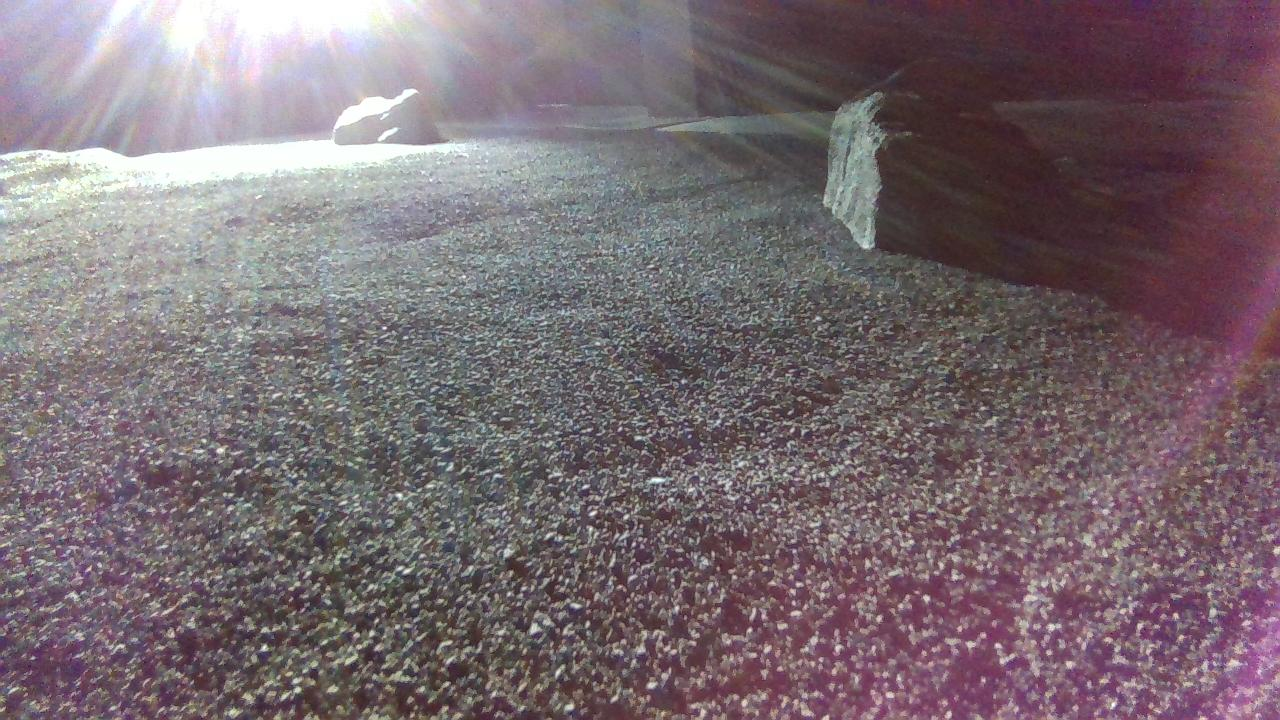rock: (825, 57, 1053, 254), (332, 87, 440, 143)
